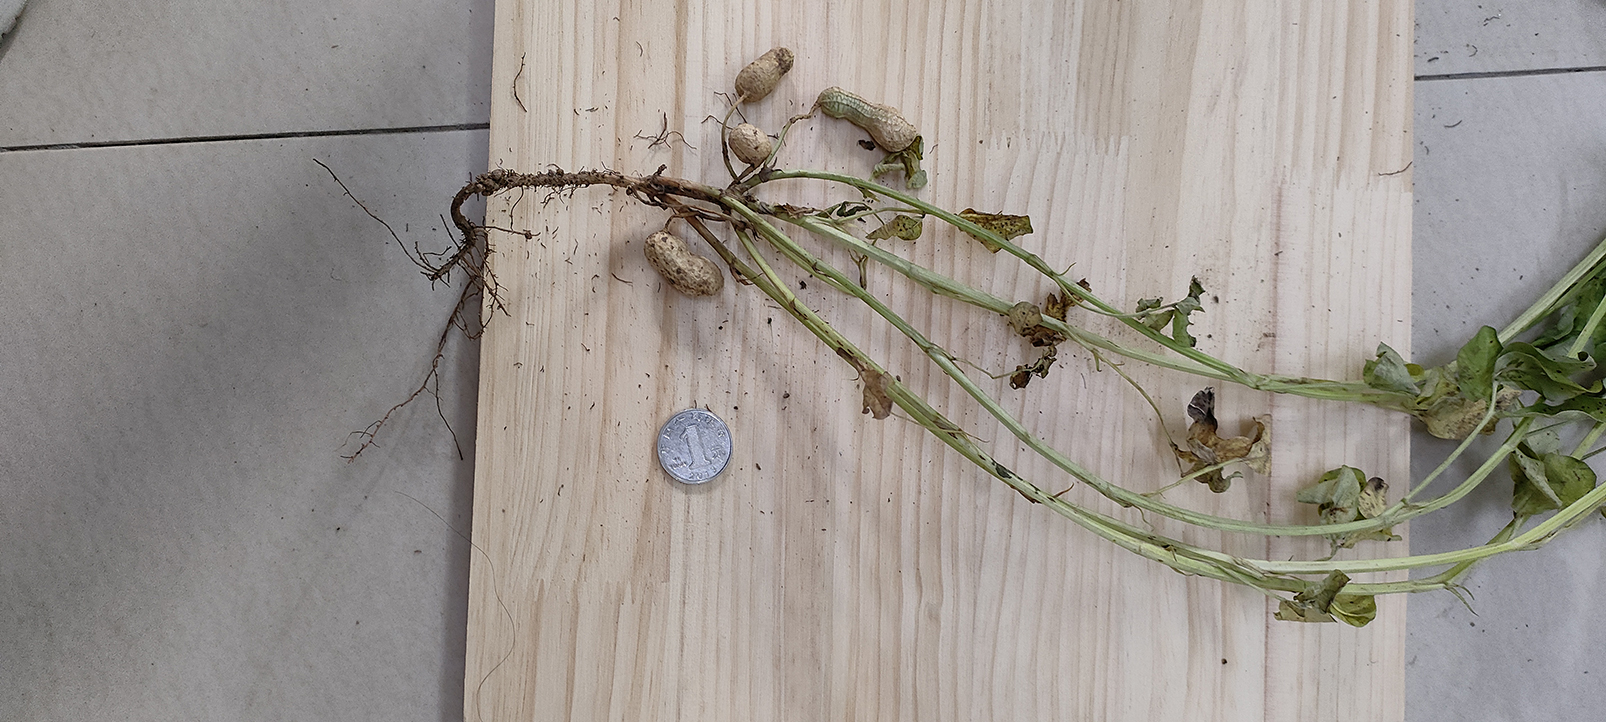h: (819, 86, 916, 152), (643, 232, 724, 297), (735, 46, 794, 103), (728, 123, 772, 167)
